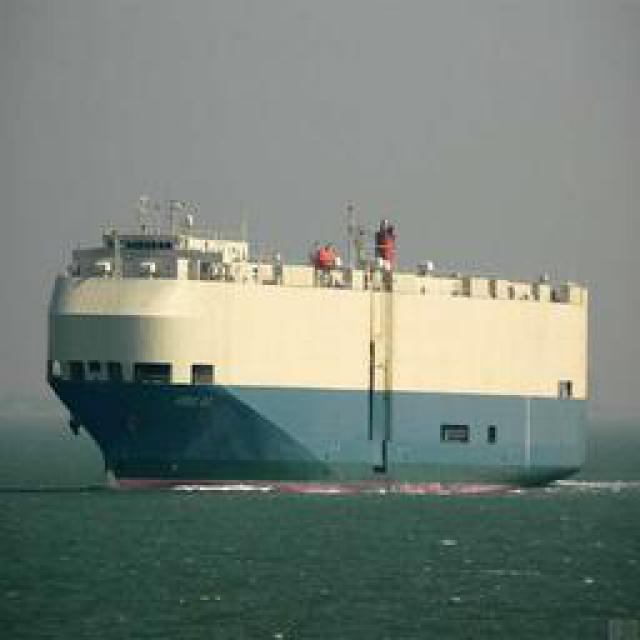Ship: (46, 228, 596, 496)
